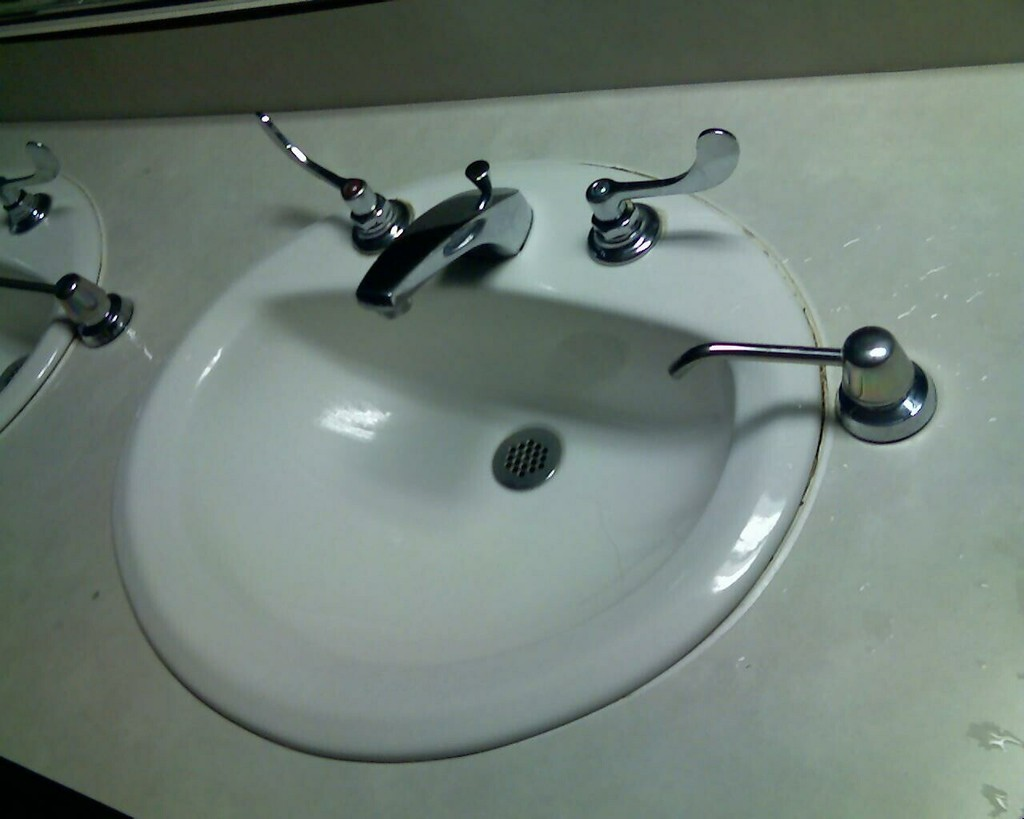tap: (358, 154, 530, 316)
